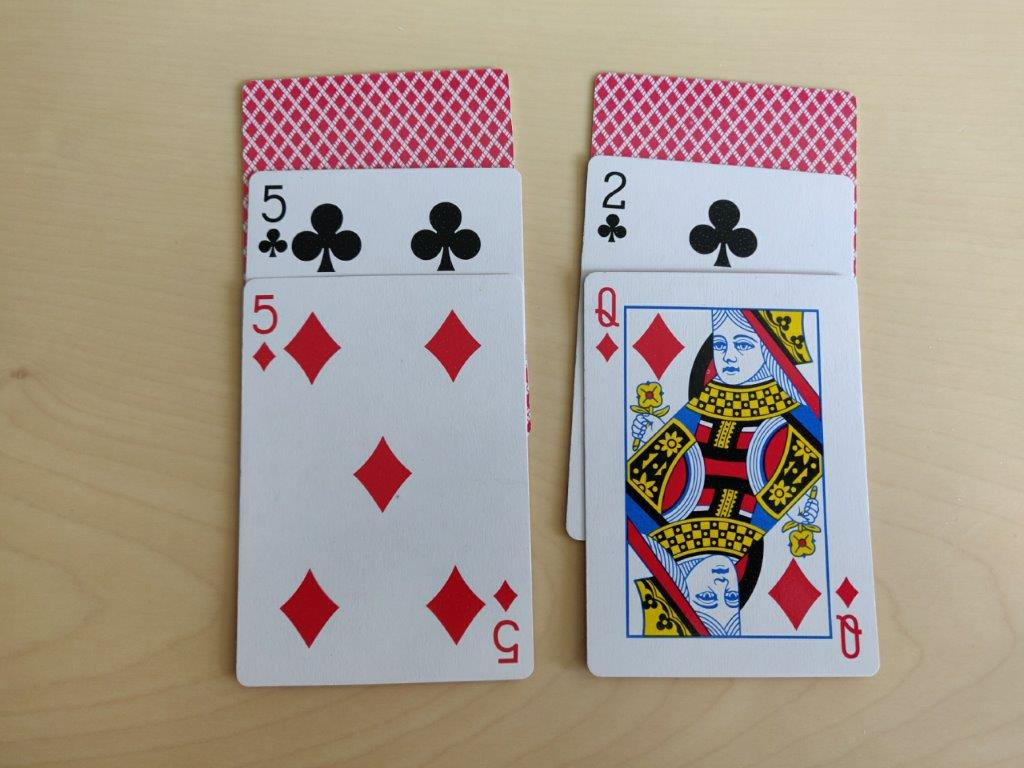2C: (596, 165, 632, 250)
5C: (251, 177, 293, 263)
5D: (247, 287, 281, 375)
BACK: (244, 74, 523, 172), (595, 74, 866, 169)
QD: (594, 280, 626, 371)
